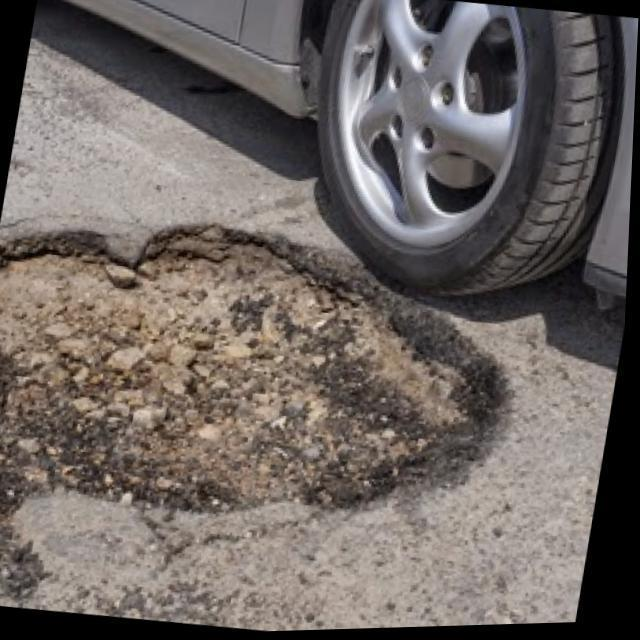Pothole: (0, 223, 513, 519)
